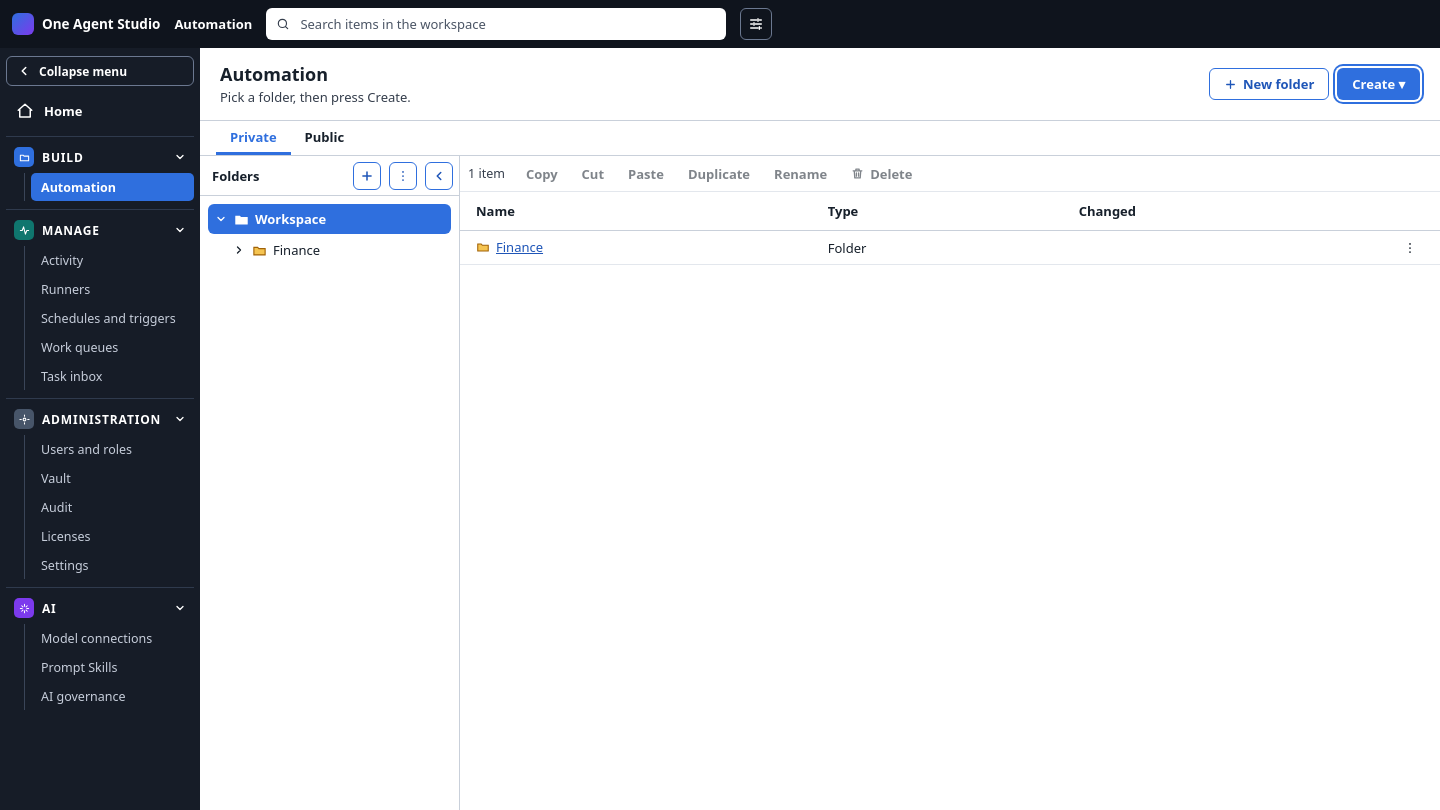
Test: new Studio › asks for a name before creating, and Cancel closes the dialog
Press ArrowDown in the button "Create ▾", box [1337,68,1420,100]
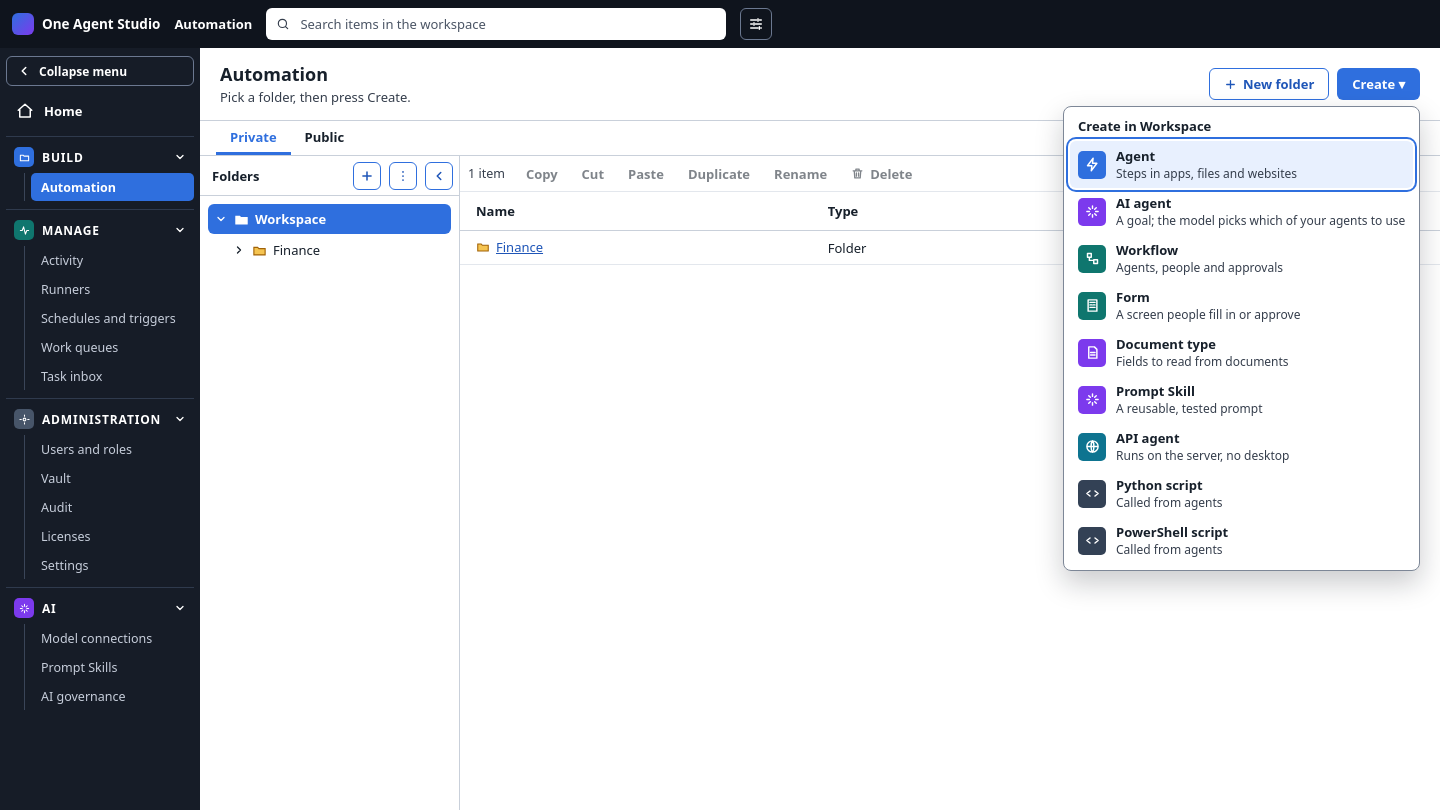
Click the menu item with aria-label "Agent, Steps in apps" at (1242, 164), box [1070,141,1413,188]
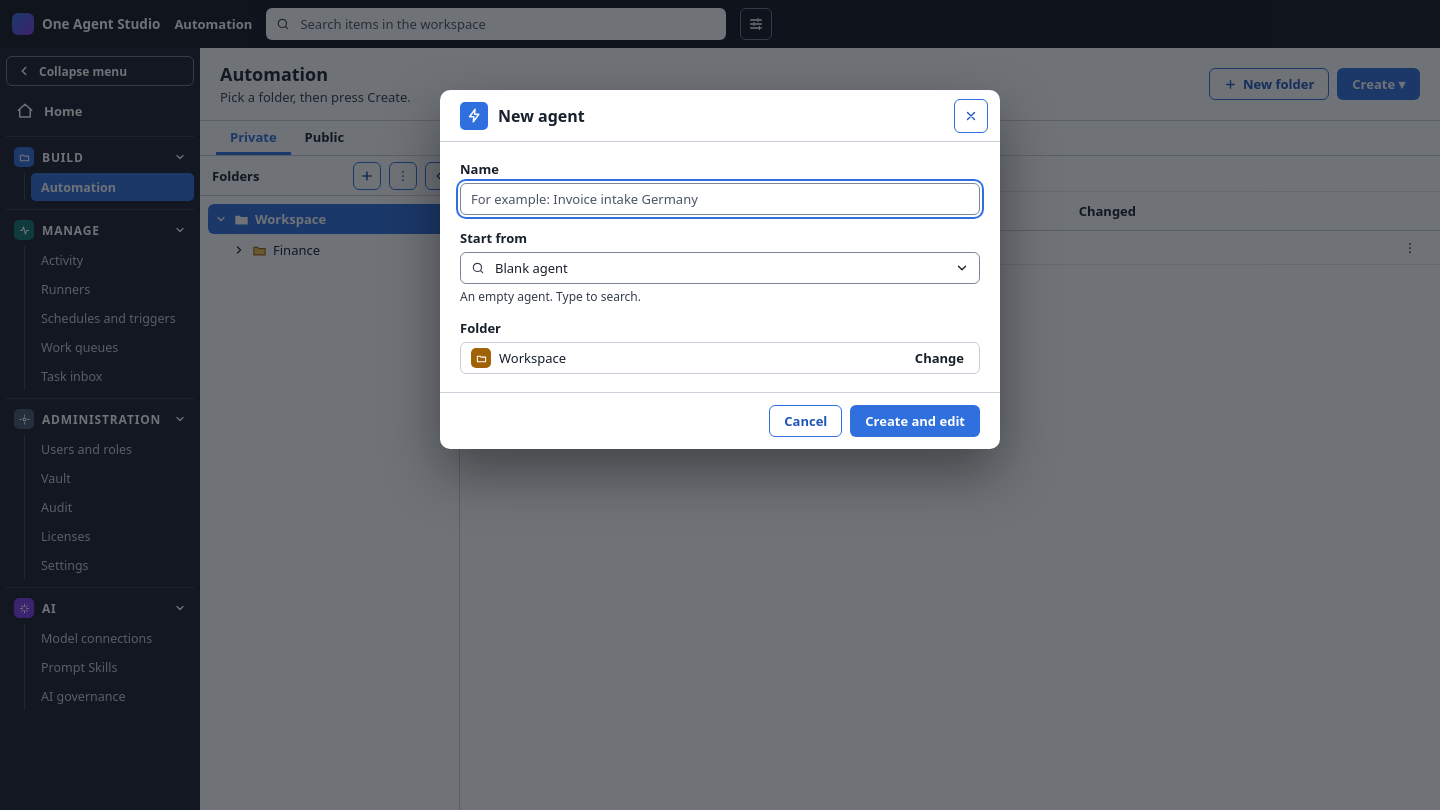
Click the button "Create and edit" at (915, 421), box [850,405,980,437]
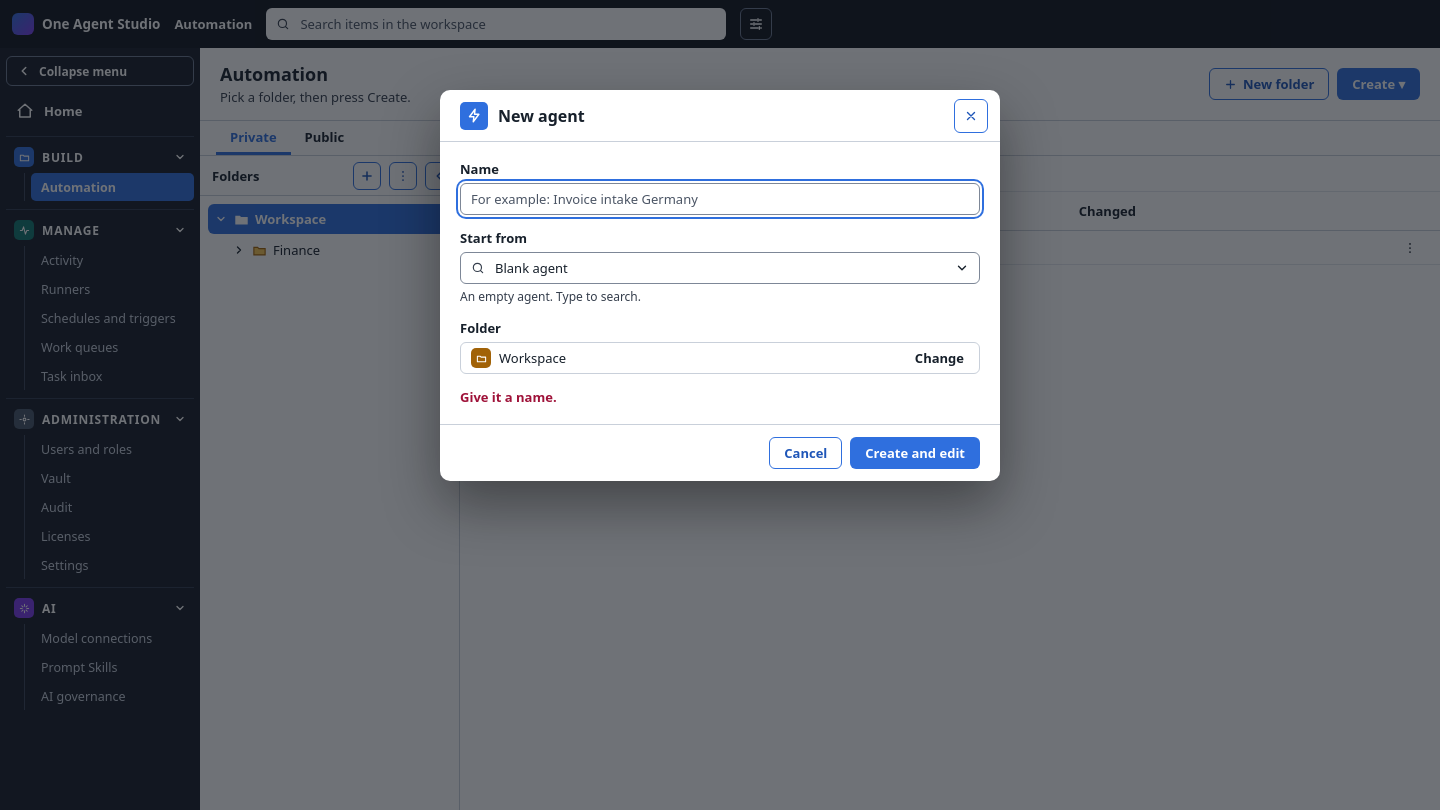
Expected: the message reads "Give it a name.", [460,388,557,406]
Click the button "Cancel" at (806, 453), box [769,437,842,469]
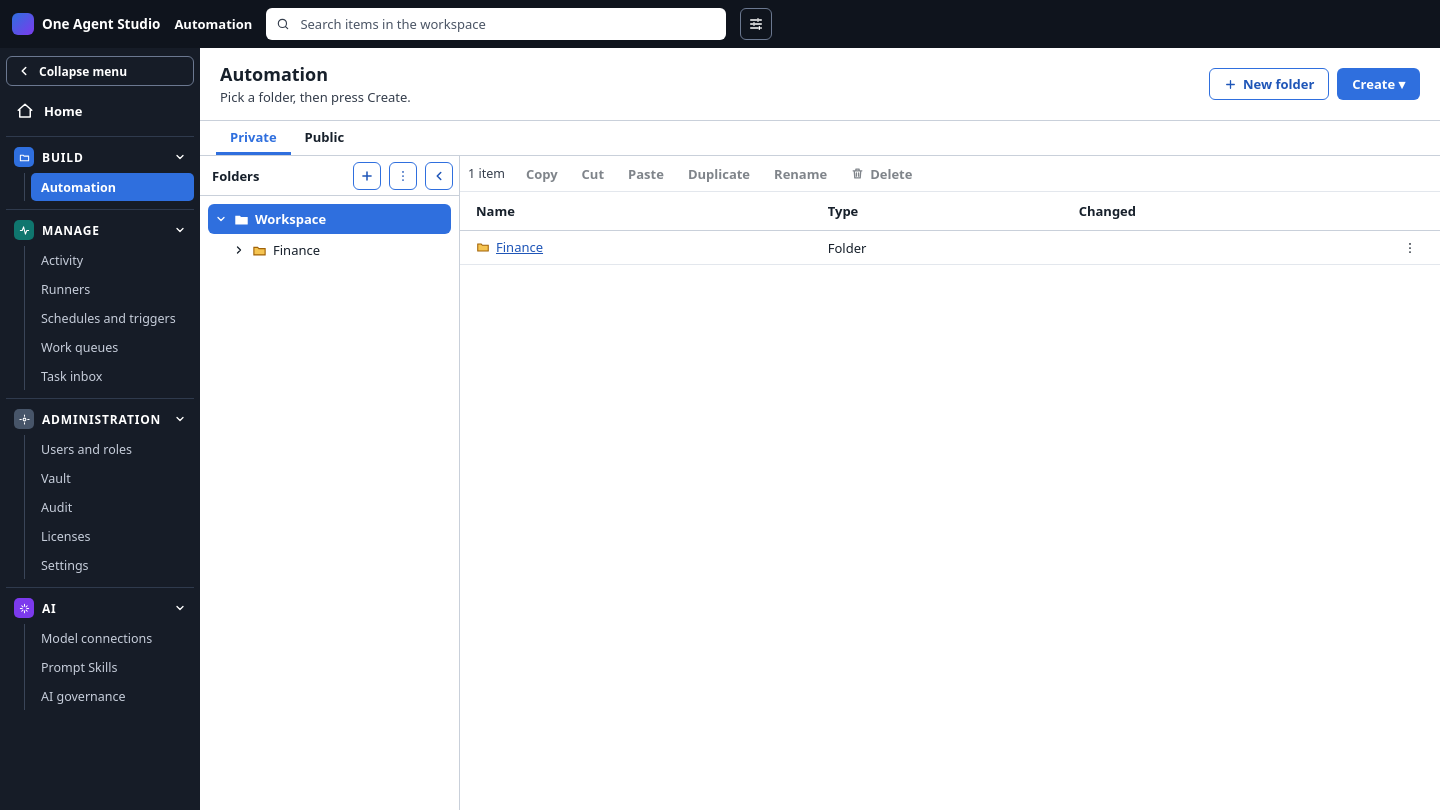
Expected: the dialog is gone
